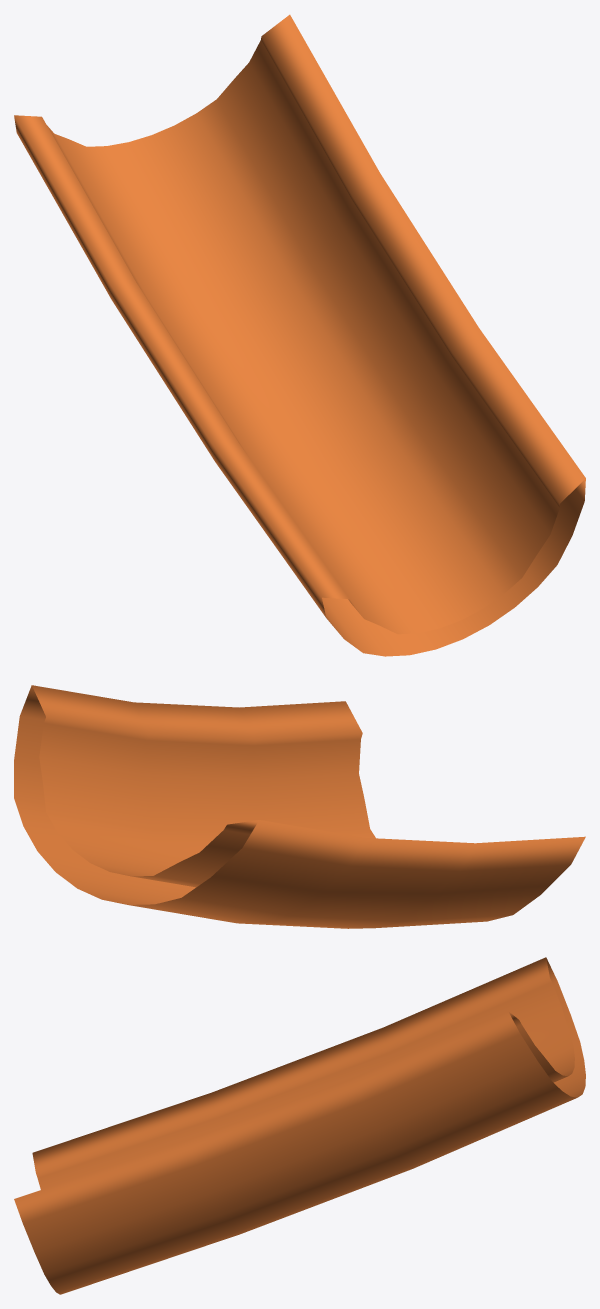
Rendered from speedsUp.glb.
The picture shows the model from 3 angles, top to bottom: view 1: azimuth 30°, elevation 25°; view 2: azimuth 150°, elevation 25°; view 3: azimuth 270°, elevation 25°; orthographic projection. The views are drawn at different scales.
Parts seen in each view (by area): view 1: SpeedUp; view 2: SpeedUp; view 3: SpeedUp.
Boxes of the visible parts, x1,y1,x2,y2 form: SpeedUp: (14,14,585,656); SpeedUp: (14,685,585,928); SpeedUp: (14,957,585,1294).
Size of the model in its own units: 21.09 by 30.41 by 48.46.
